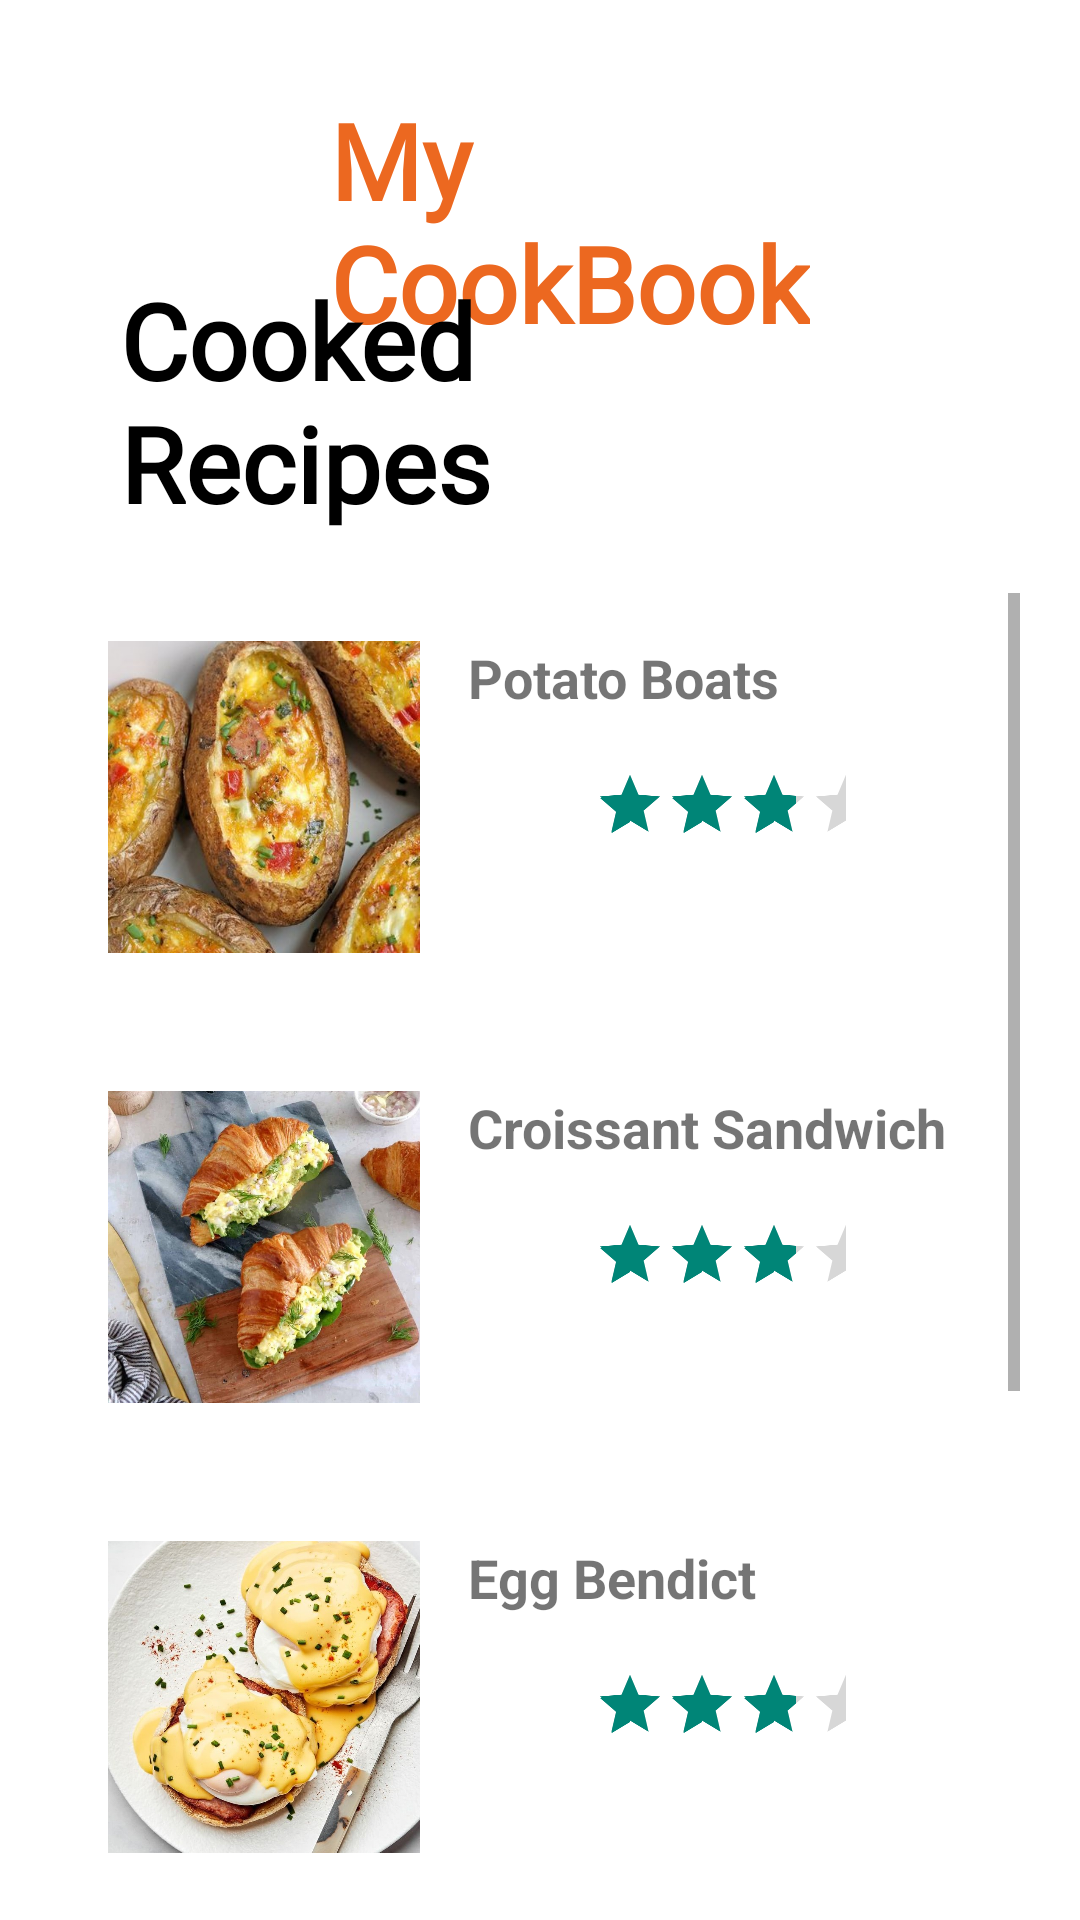

Icons on this 1080x1920 Android screen, each with the point to tap as (x,y):
egg benedict: (264,1697)
